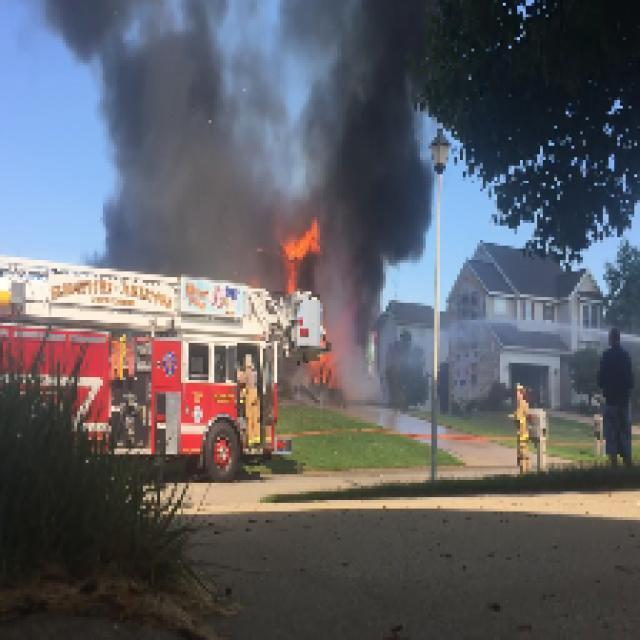Fire: (280, 220, 320, 283)
Smoke: (60, 3, 269, 263), (280, 3, 426, 214), (332, 217, 428, 303)
